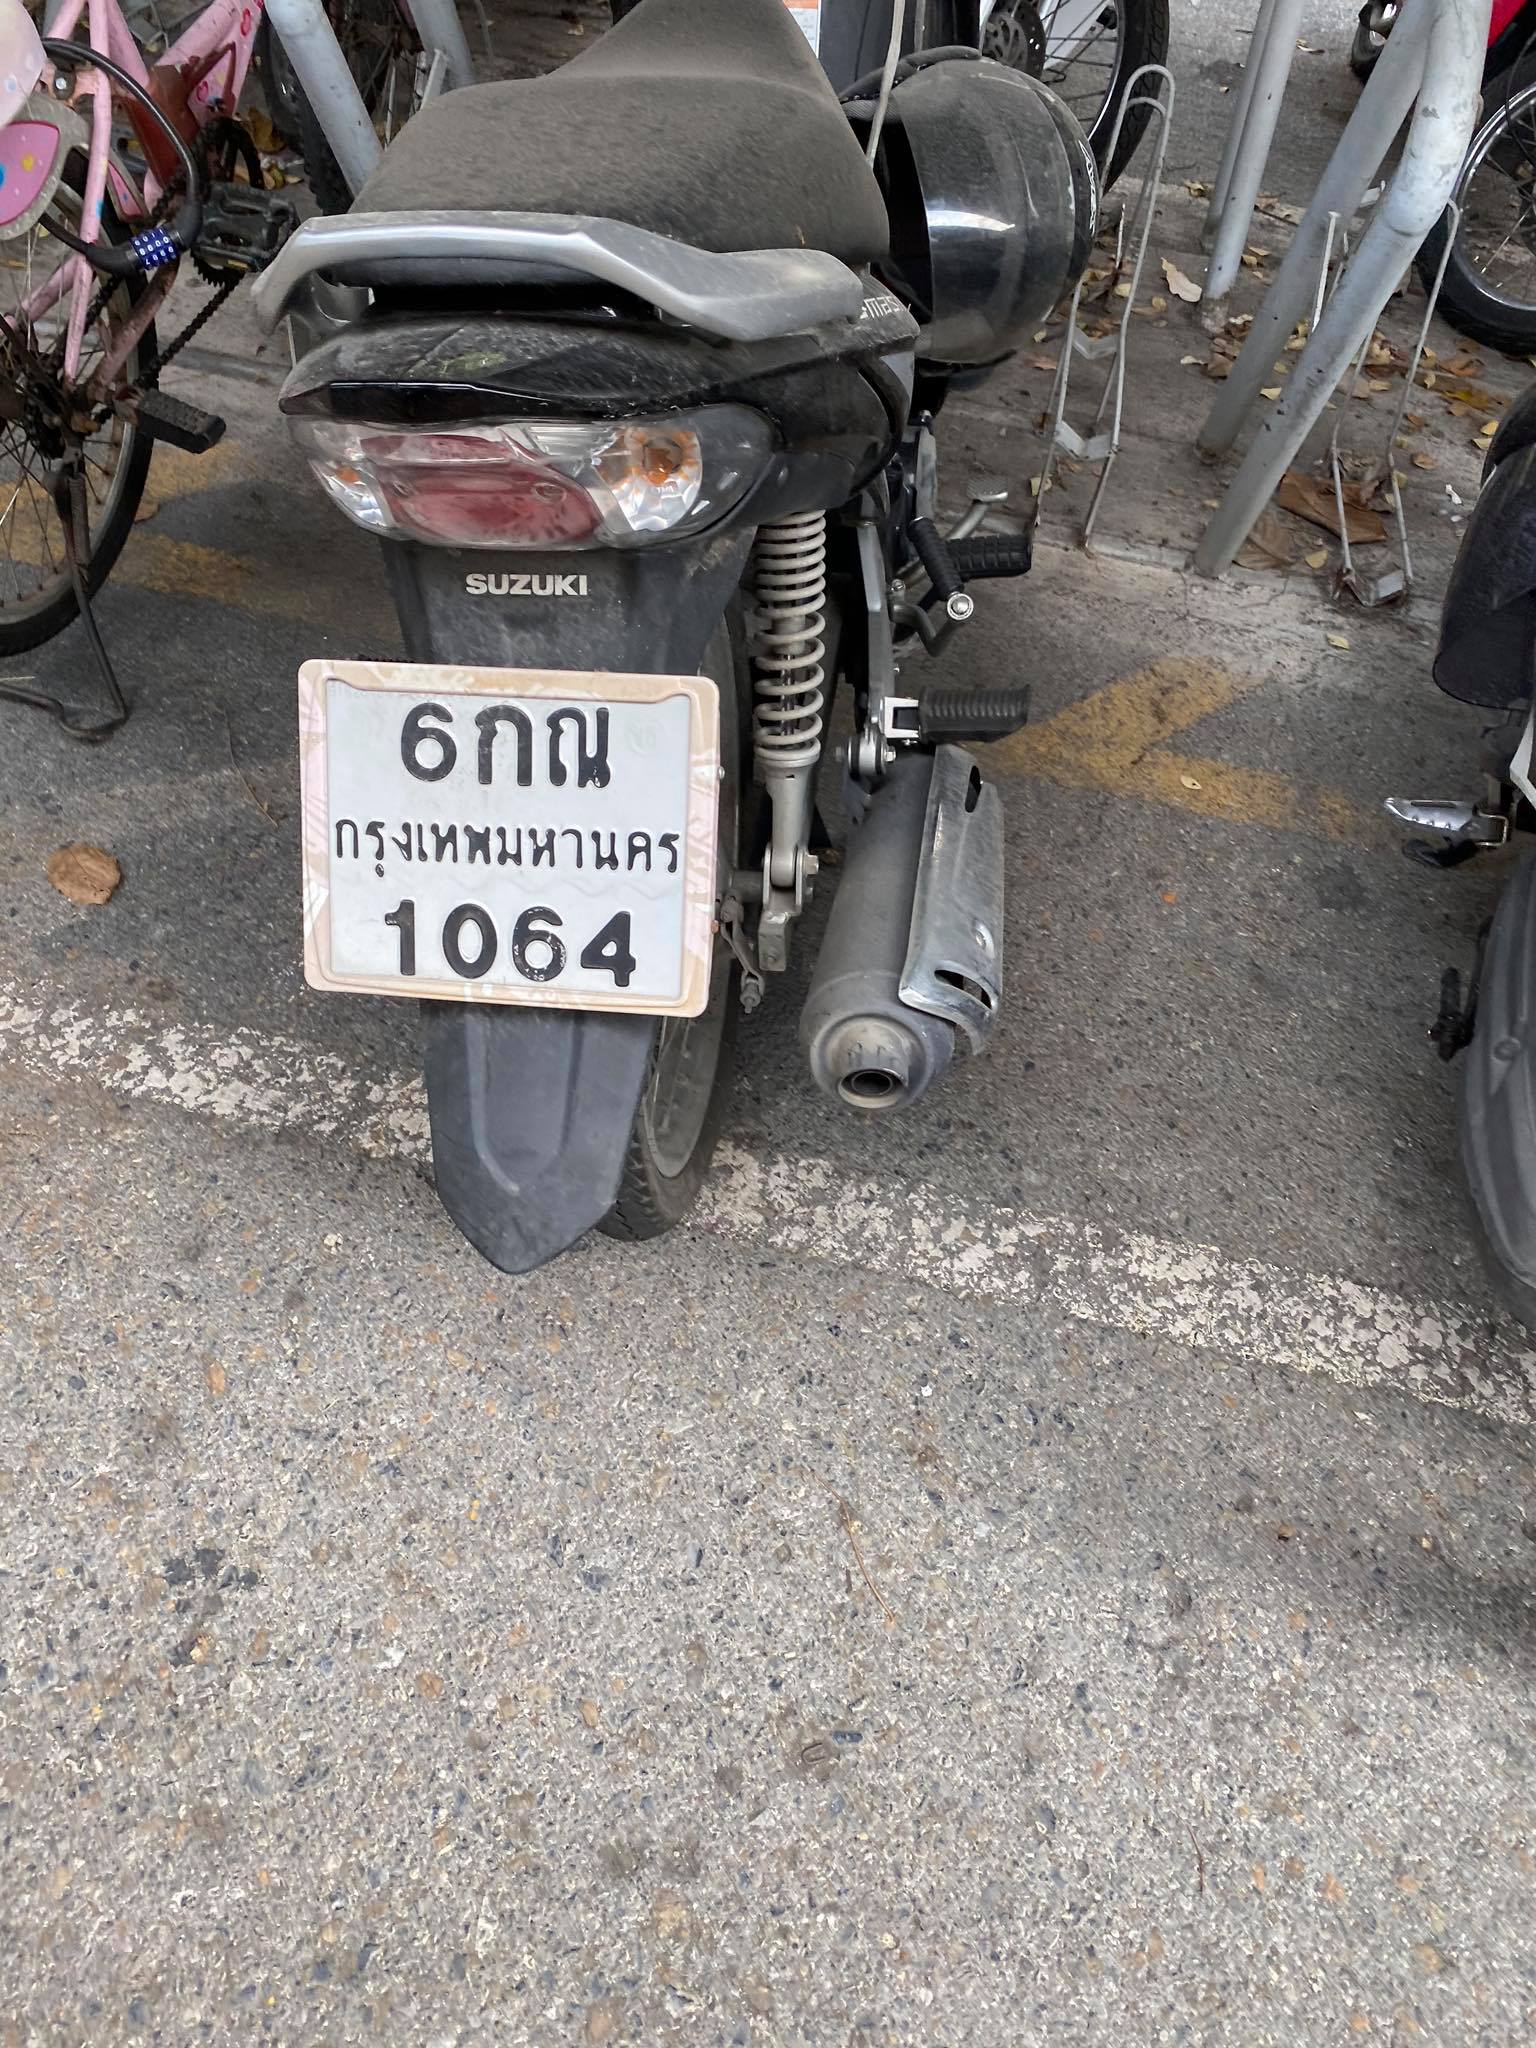line1: (394, 692, 620, 795)
line2: (319, 795, 686, 885)
line3: (374, 884, 653, 992)
